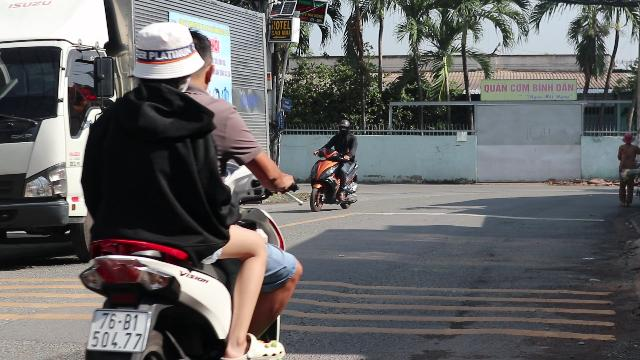licenseplate: (87, 310, 149, 350)
motorcyclist: (69, 19, 311, 354)
nohelmet: (129, 21, 203, 93)
